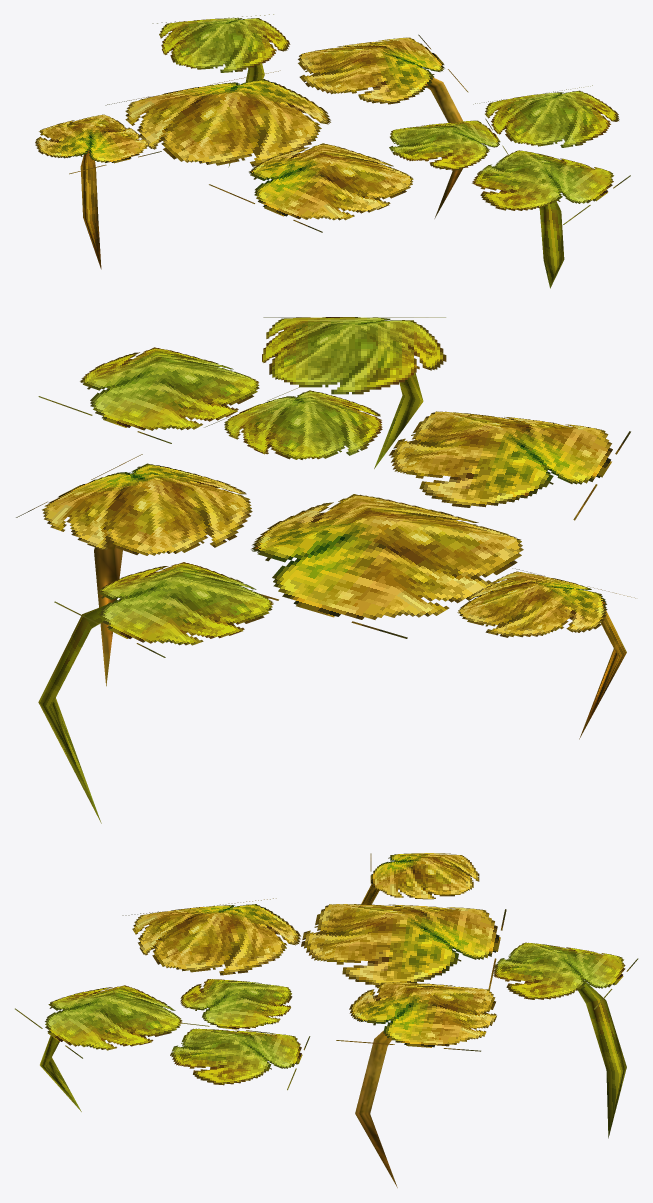
The model's file is swampofsorrowlilypad01.glb.
The picture shows the model from 3 angles, top to bottom: view 1: azimuth 30°, elevation 25°; view 2: azimuth 150°, elevation 25°; view 3: azimuth 270°, elevation 25°; orthographic projection. The views are drawn at different scales.
Bounding box in the file's own units: 4.05 × 1.4 × 4.48.
Materials: 3 (3 with a texture image).
